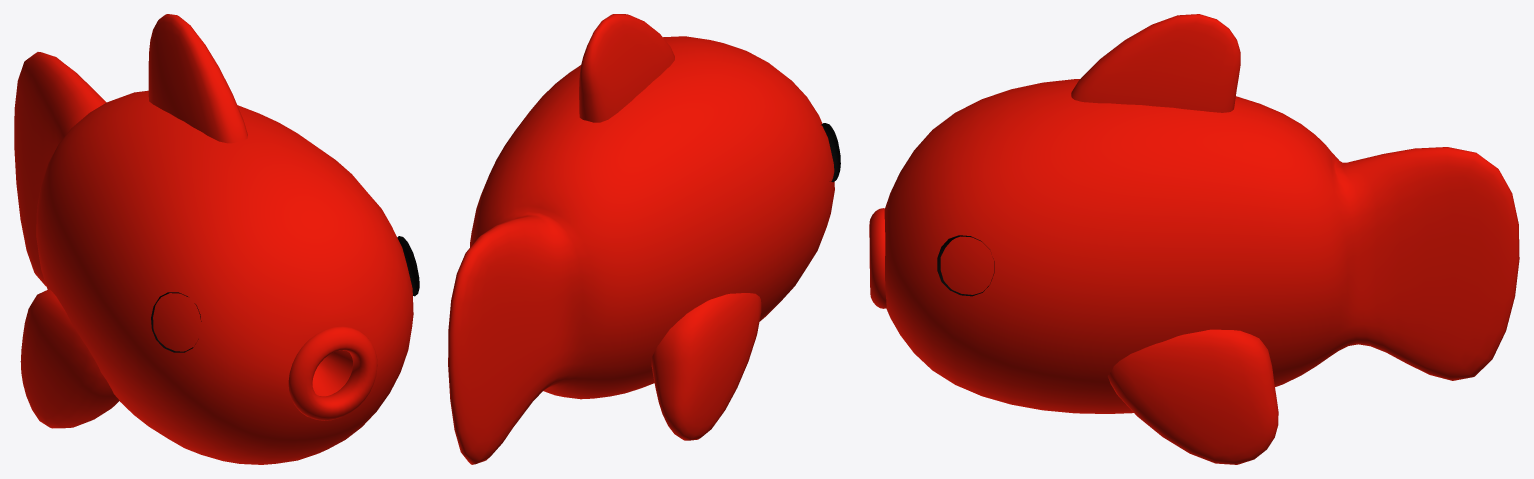
Rendered from toonstylized_fish.glb.
3 views of the same model, side by side, from view 1: azimuth 30°, elevation 25°; view 2: azimuth 150°, elevation 25°; view 3: azimuth 270°, elevation 25° (orthographic). The views are drawn at different scales.
Parts seen in each view (by area): view 1: Fish; view 2: Fish; view 3: Fish.
Part boxes in pixels (x1=…): Fish: x1=14, y1=14, x2=419, y2=464; Fish: x1=448, y1=14, x2=840, y2=464; Fish: x1=869, y1=14, x2=1519, y2=464.
Size of the model in its own units: 0.325 by 0.4522 by 0.6748.
